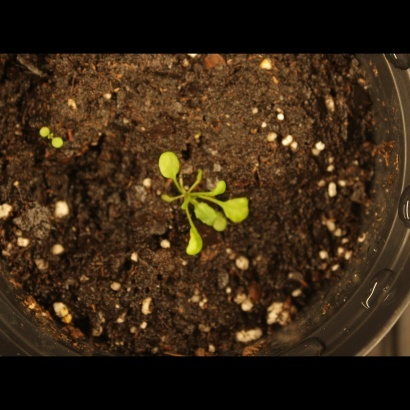leaf: (190, 199, 228, 233), (154, 148, 183, 185), (181, 221, 208, 259), (223, 196, 254, 228), (51, 136, 74, 159), (29, 115, 52, 138), (151, 190, 174, 213), (186, 167, 209, 190), (210, 174, 233, 197)
